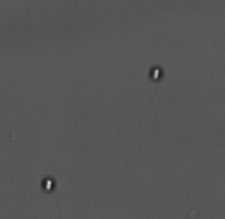Living Cell: (39, 174, 57, 194), (147, 64, 165, 83)
